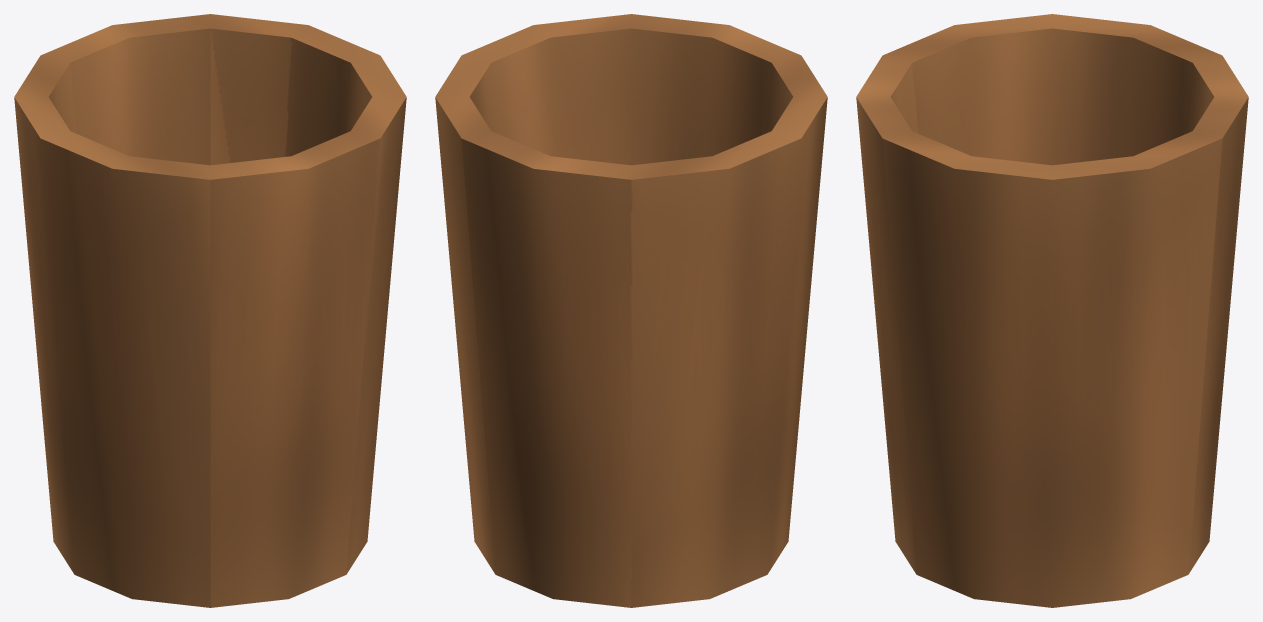
The model's file is Hold_Cup.fbx.
The picture shows the model from 3 angles, left to right: view 1: azimuth 30°, elevation 25°; view 2: azimuth 150°, elevation 25°; view 3: azimuth 270°, elevation 25°; orthographic projection.
Parts seen in each view (by area): view 1: Hold_Cup; view 2: Hold_Cup; view 3: Hold_Cup.
Boxes of the visible parts, bbox=[...] form: Hold_Cup: bbox=[14, 14, 406, 607]; Hold_Cup: bbox=[435, 14, 827, 607]; Hold_Cup: bbox=[856, 14, 1248, 607].
Bounding box in the file's own units: 0.08 × 0.1 × 0.08.
Materials: 1 (1 with a texture image).
